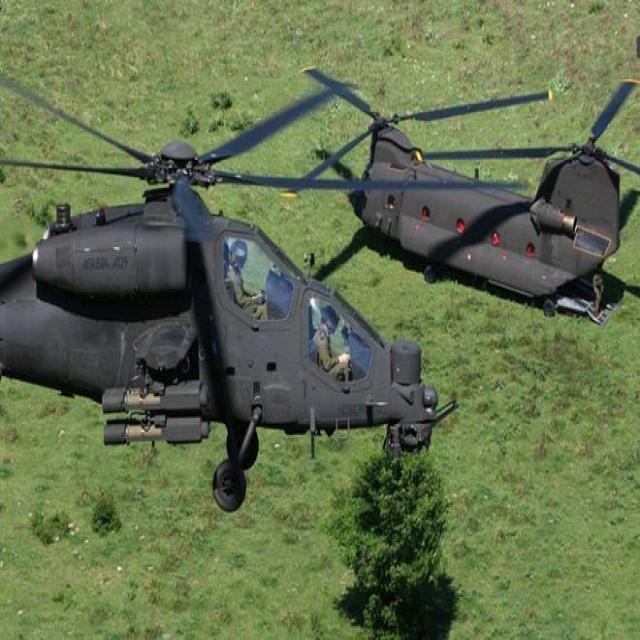MIL_HELO: (6, 56, 482, 520), (309, 56, 640, 359)
